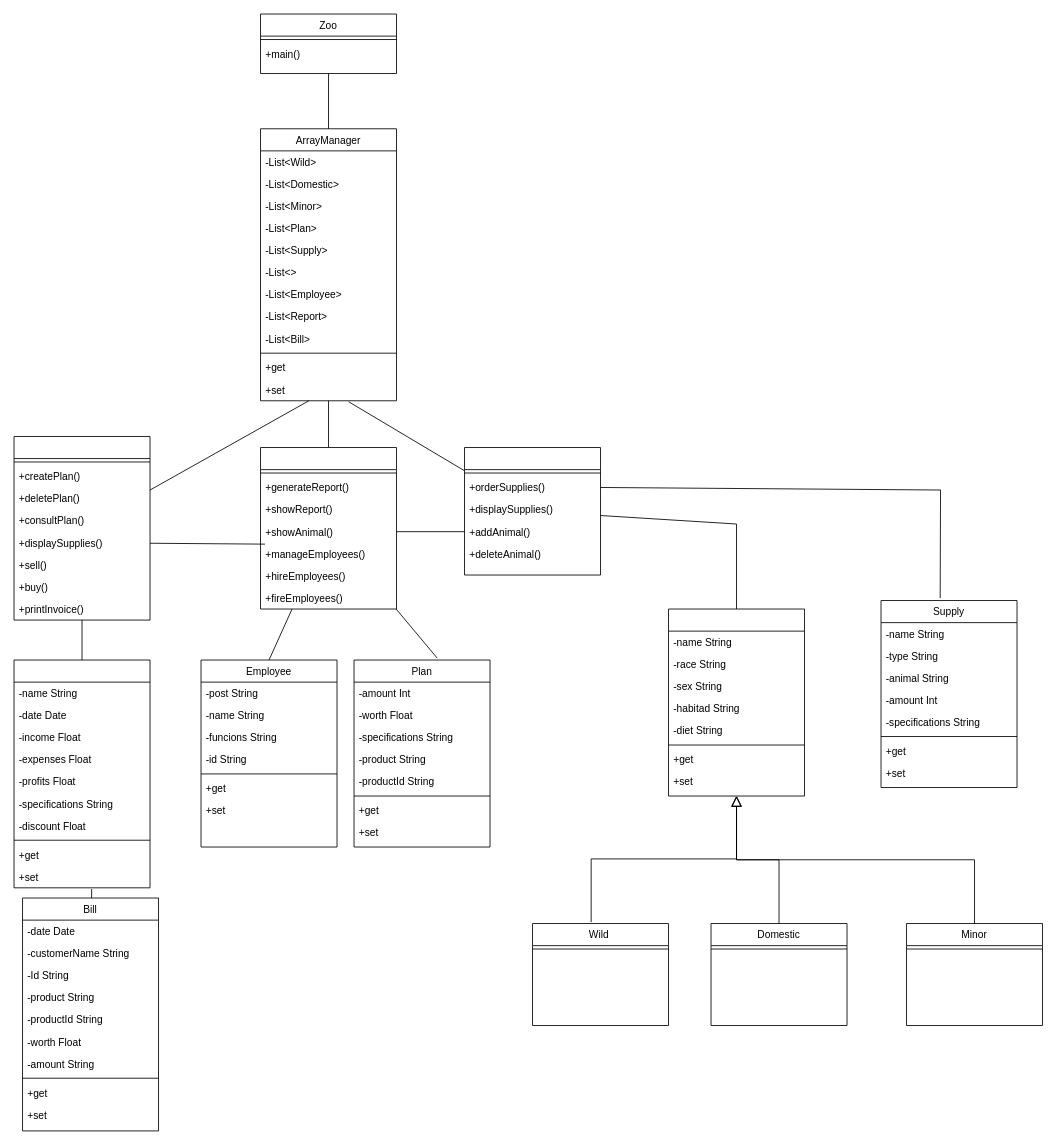
Some shapes in this 1057 by 1145 pixel diagram are drawn without their labels. Here are the shapes that lost their labels. From the top down, the box of each, then its label:
(13, 436, 150, 620): ComercialDepartment
(260, 447, 397, 609): AdministrativeDepartment
(464, 447, 601, 575): LogisticsDepartment
(668, 608, 805, 796): Animal
(13, 659, 150, 888): Transation
